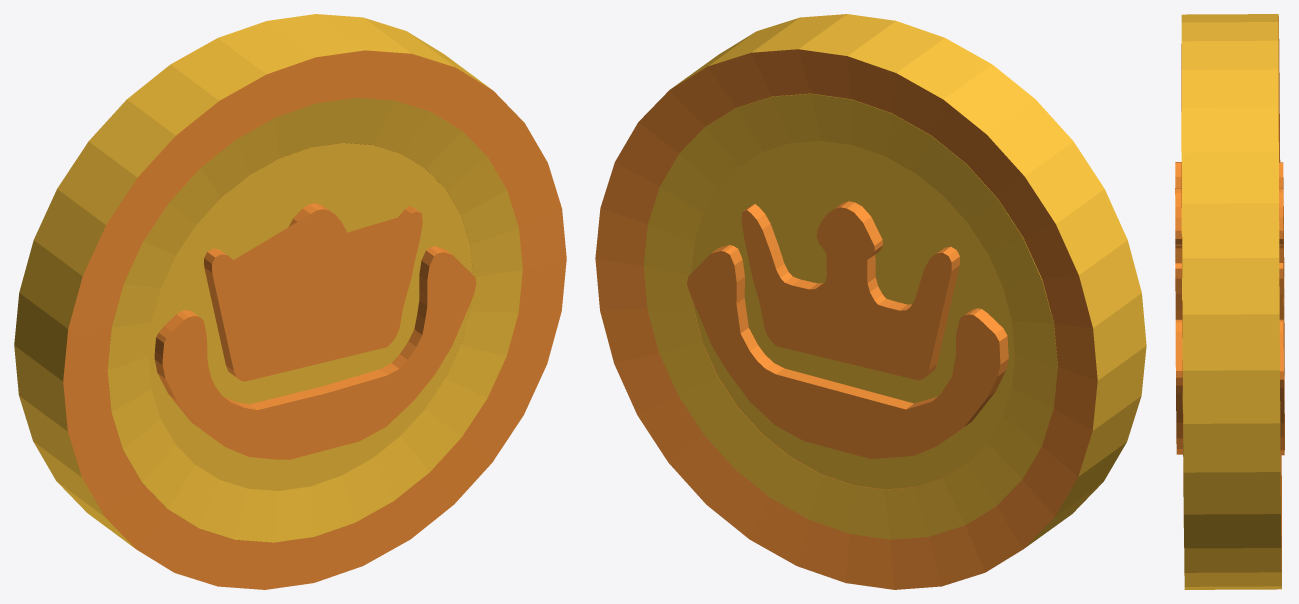
Rendered from coin (1).fbx.
3 renders of one model, left to right at view 1: azimuth 30°, elevation 25°; view 2: azimuth 150°, elevation 25°; view 3: azimuth 270°, elevation 25°, orthographic.
Parts seen in each view (by area): view 1: Cylinder.001; view 2: Cylinder.001; view 3: Cylinder.001.
Boxes of the visible parts, x1,y1,x2,y2 form: Cylinder.001: [14, 14, 566, 589]; Cylinder.001: [595, 14, 1146, 589]; Cylinder.001: [1175, 14, 1284, 589].
Bounding box in the file's own units: 226 × 227 × 43.13.
